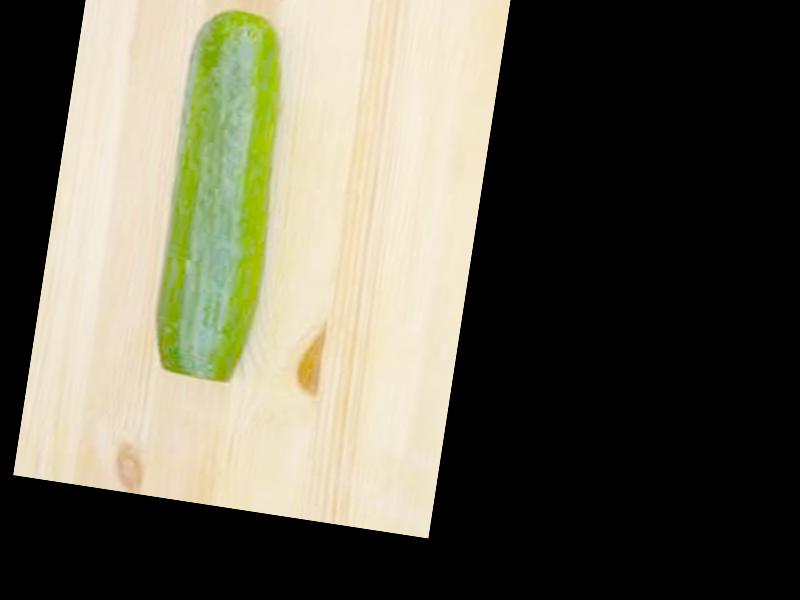Cucumber: (143, 4, 297, 383)
